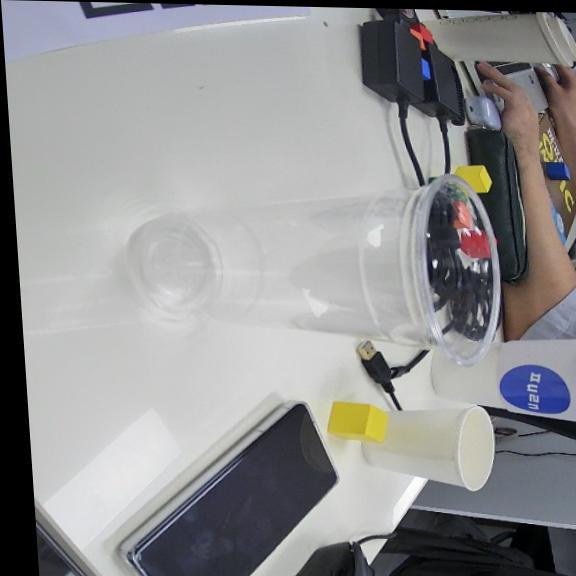Plastik: (133, 175, 499, 365)
